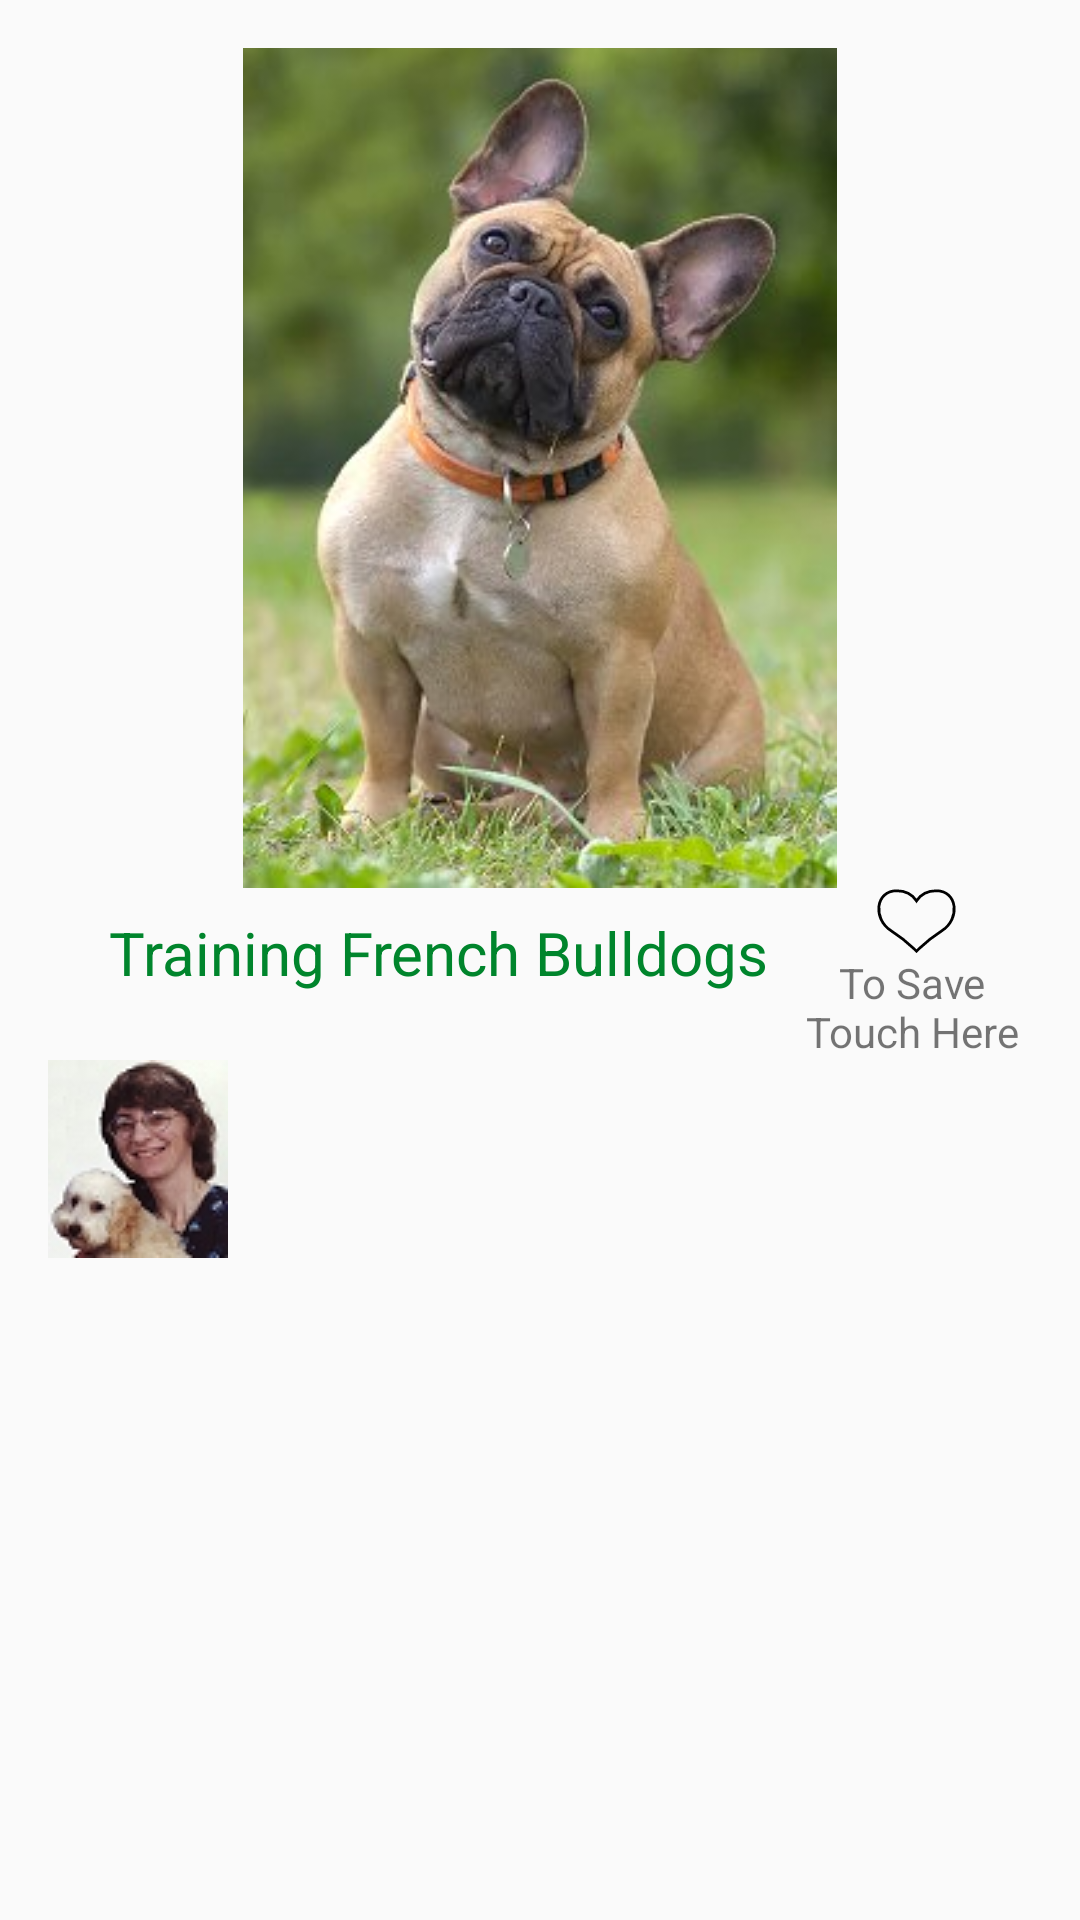

Named icons in this screenshot (1080 x 1920) and their centers, (x,y):
heart: (916,921)
